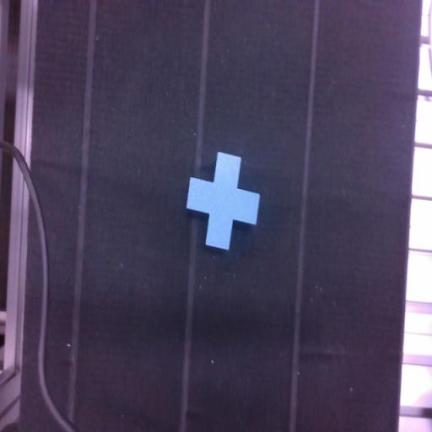cross: (187, 152, 259, 249)
